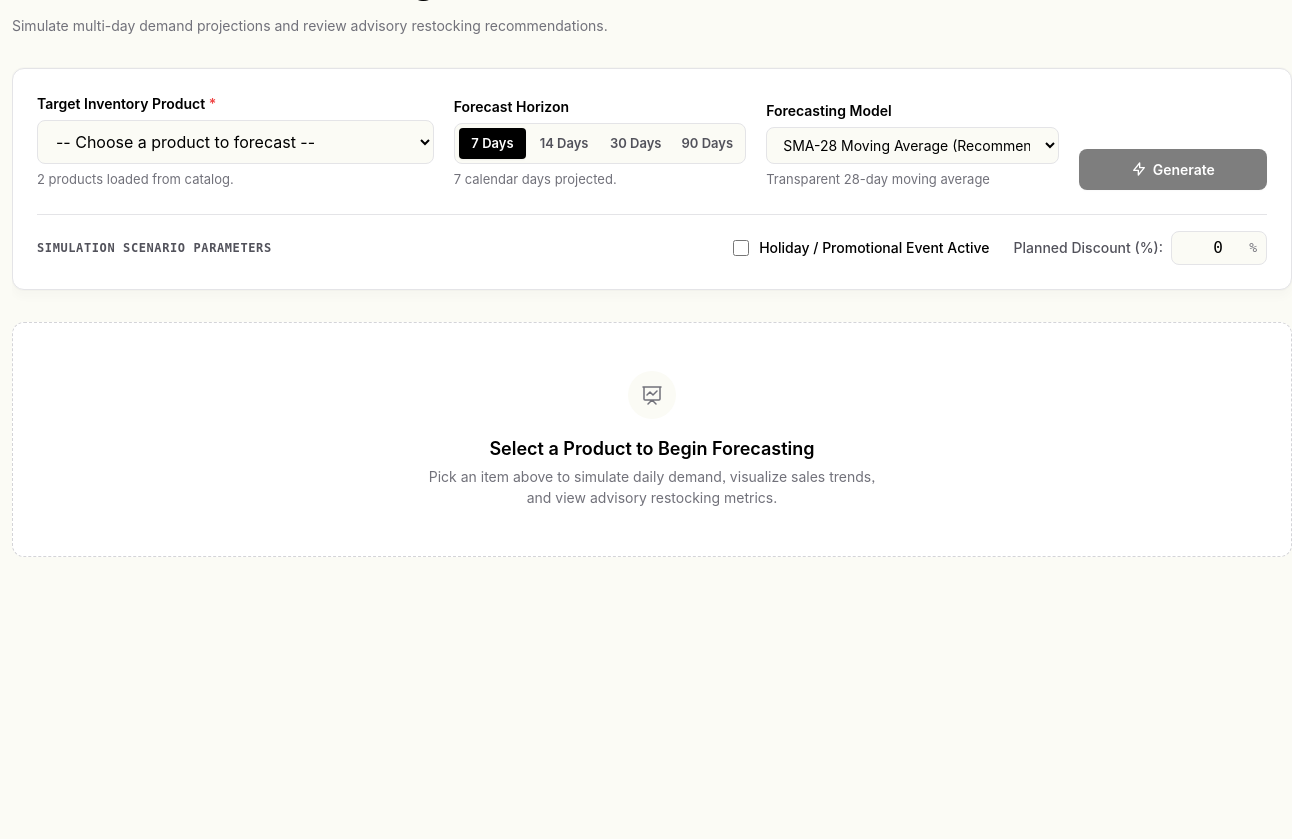
Test: ForecastingPage Component › renders insufficient history state cleanly without throwing
The image size is (1292, 839).
Select "Wireless Mouse (SKU-WM-001) · Stock: 15" in the dropdown labelled "Target Inventory Product *" at (235, 142), box 37,120 -> 434,164
(page scrolled)
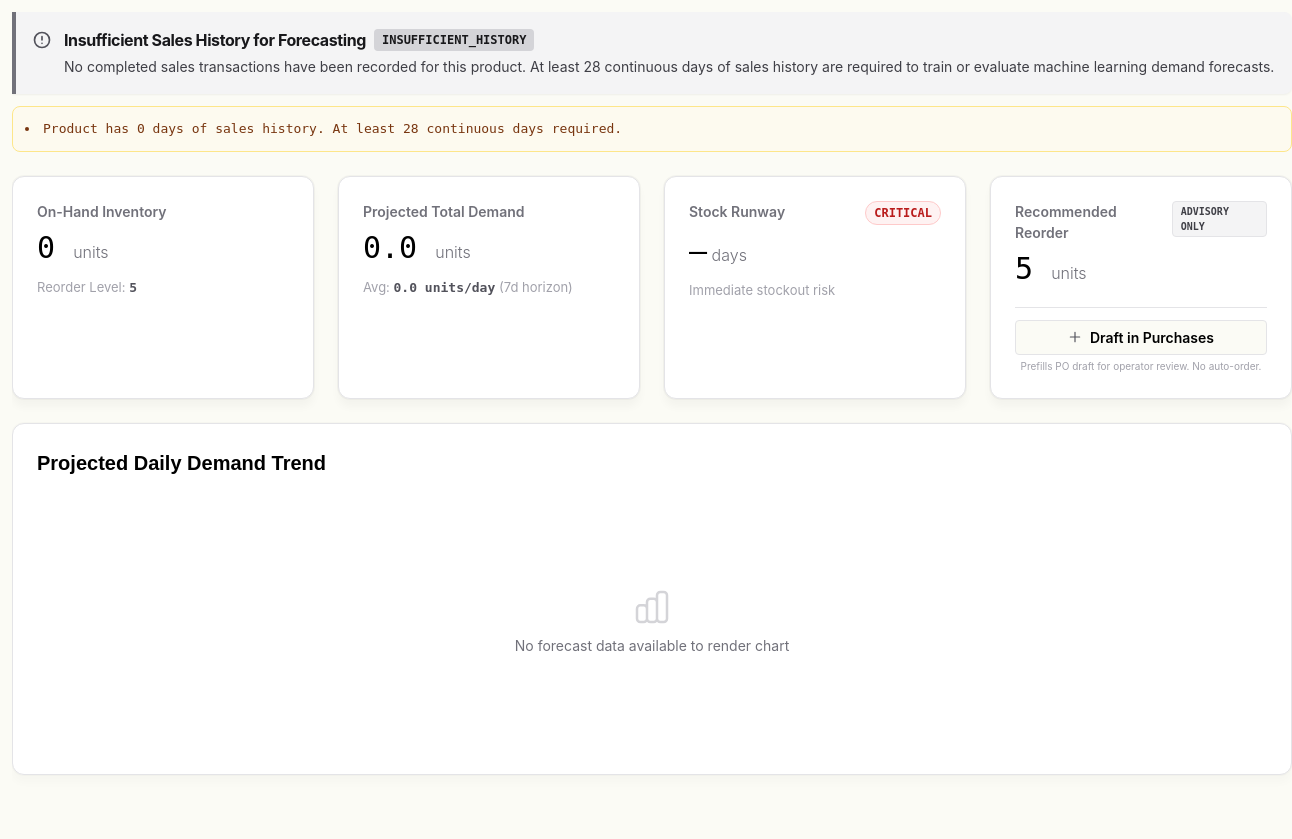
Result: the message with test id "insufficient-history-banner" is shown at 12,12 -> 1291,94
Result: the heading "Insufficient Sales History for Forecasting" is shown at 64,28 -> 366,52
Result: the text "No forecast data available to render chart" is shown at 515,635 -> 789,656
